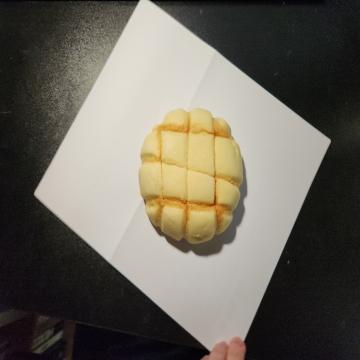melon_bread: (138, 108, 245, 249)
